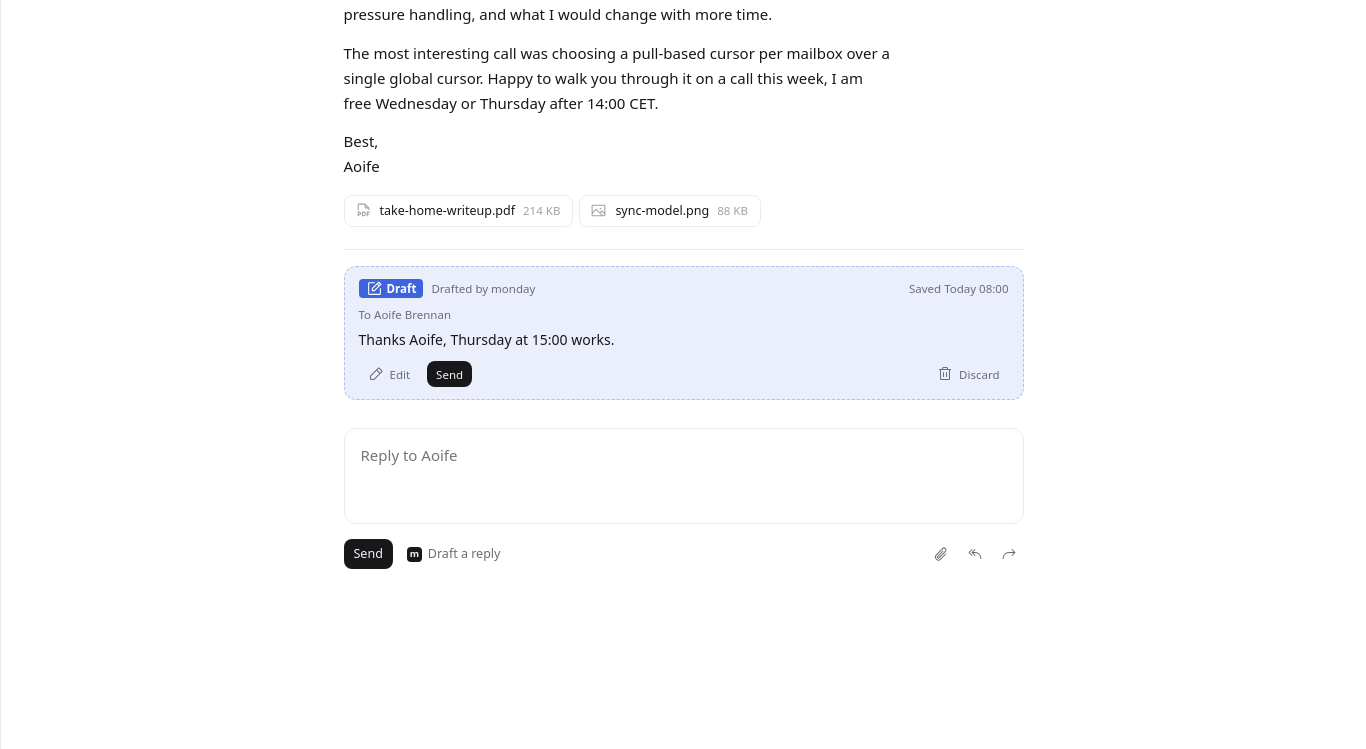
Test: Drafts you can find › Edit on the draft card opens it in the inline reply
(page scrolled)
Click the button "Edit" at (389, 374), box [358,361,419,387]
(page scrolled)
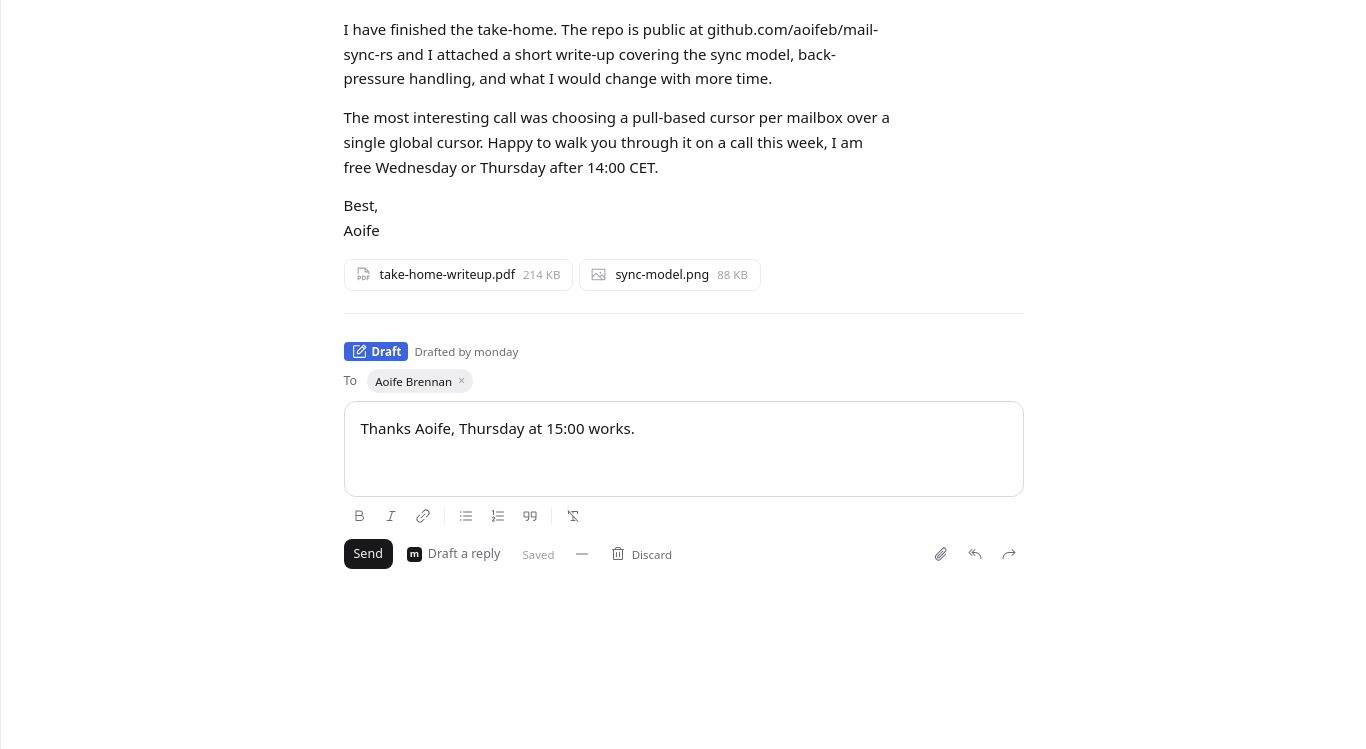
Expected: the field with class "tiptap" shows "Thursday", [344,401,1024,497]
Expected: the element with class "draft-card" is gone
